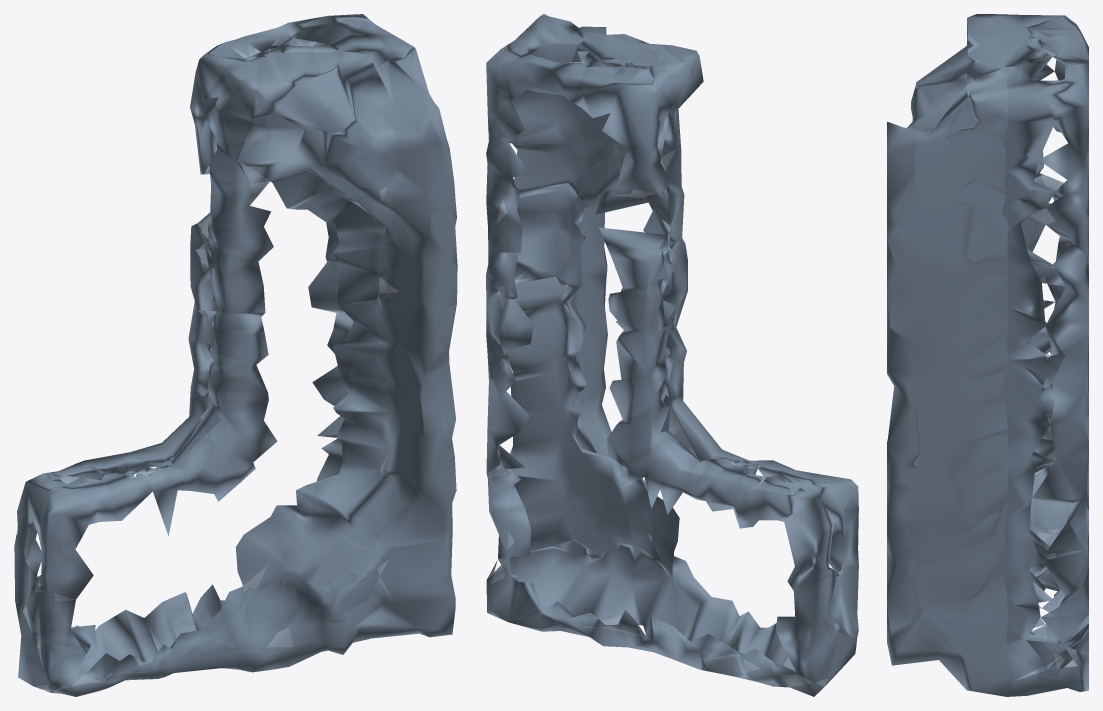
File: sofa_0115_original.obj
The picture shows the model from 3 angles, left to right: view 1: azimuth 30°, elevation 25°; view 2: azimuth 150°, elevation 25°; view 3: azimuth 270°, elevation 25°; orthographic projection. The views are drawn at different scales.
Bounding box in the file's own units: 0.9717 × 1.56 × 0.475.
